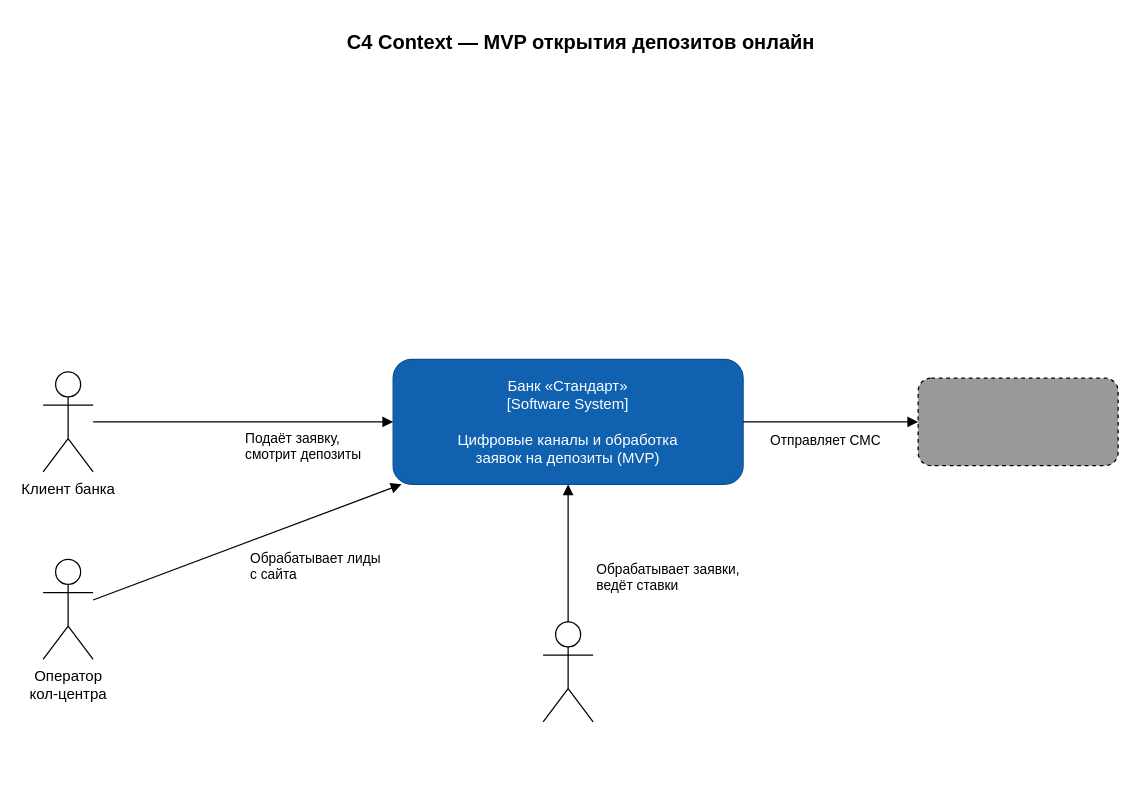
This 1140x788 diagram has some shape labels left out. The centre of each missing label's shape, as x and y in pixels:
"Менеджер бэк-офиса депозитов" belongs at (567,671).
"СМС-шлюз / Телеком-оператор [External System]" belongs at (1017,421).
